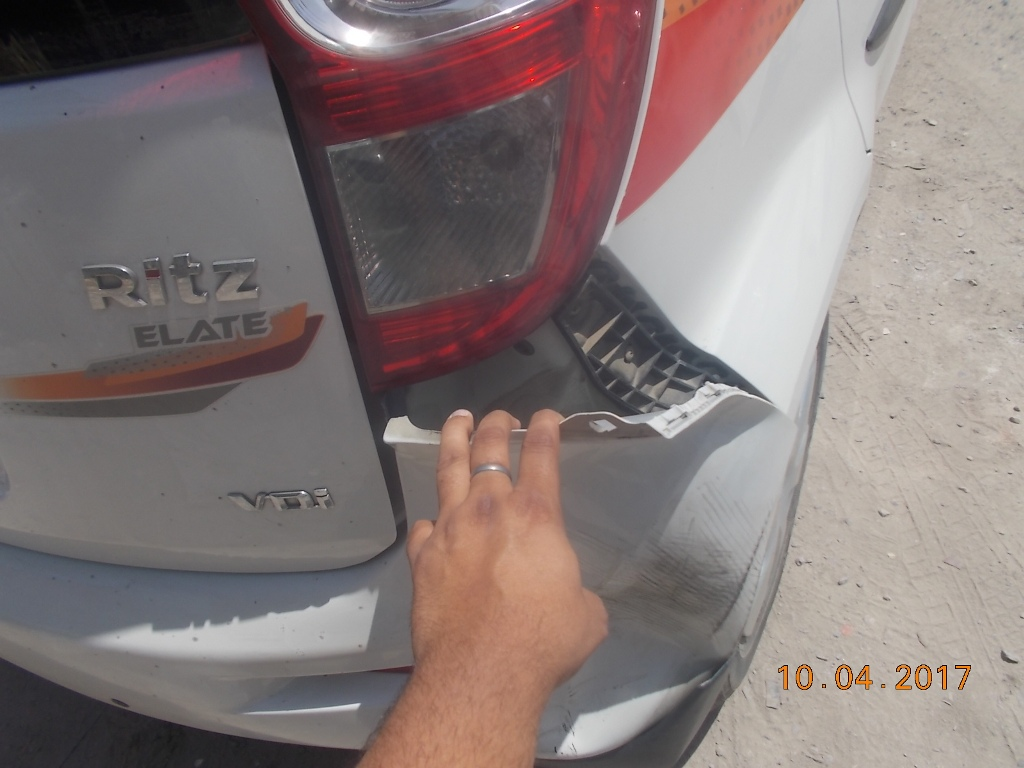Dislocation: (494, 204, 797, 495)
